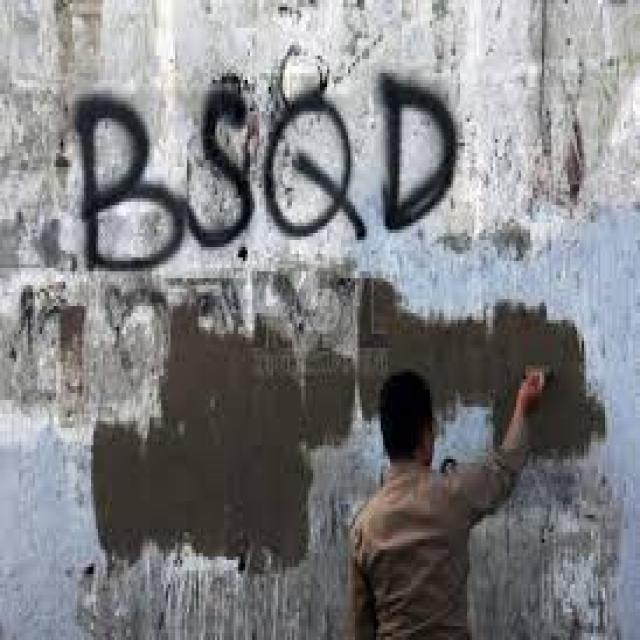-: (74, 74, 454, 266)
